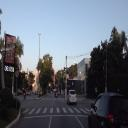NoVirarEsquerda: (38, 84, 40, 89)
NoVirarU: (15, 70, 19, 78)
